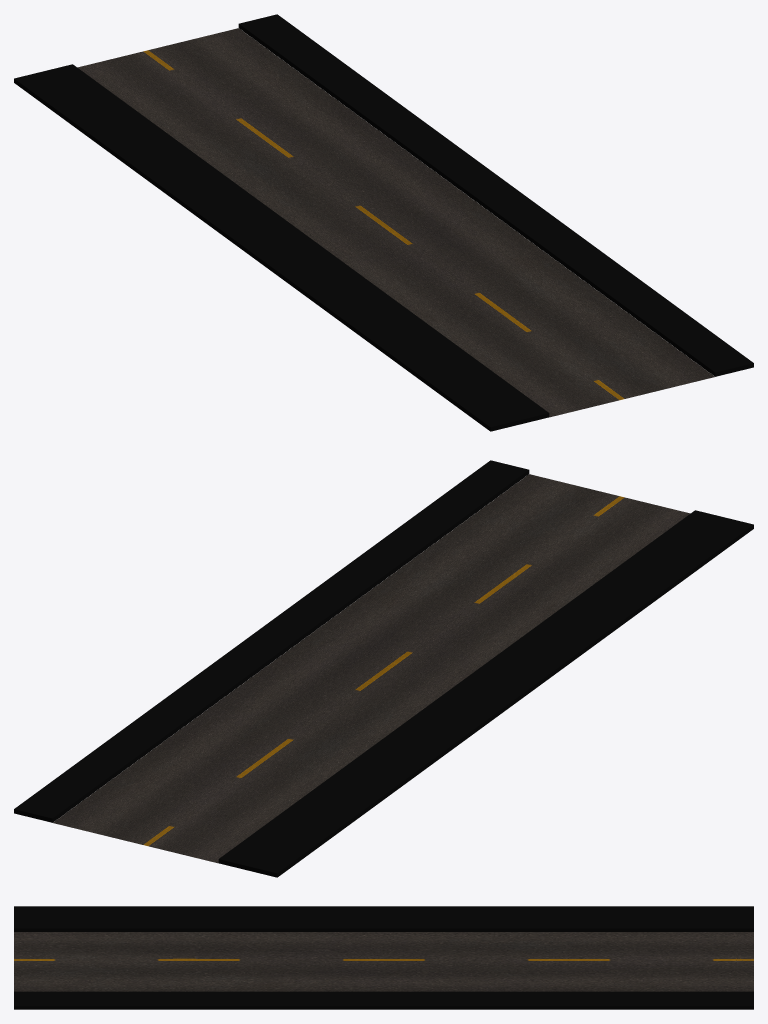
Rendered from road1.glb.
The picture shows the model from 3 angles, top to bottom: view 1: azimuth 30°, elevation 25°; view 2: azimuth 150°, elevation 25°; view 3: azimuth 270°, elevation 25°; orthographic projection. The views are drawn at different scales.
Parts seen in each view (by area): view 1: Plane.002, Plane.001; view 2: Plane.002, Plane.001; view 3: Plane.002, Plane.001.
Part boxes in pixels (x1=…): Plane.002: x1=77, y1=28, x2=714, y2=417; Plane.001: x1=14, y1=14, x2=753, y2=431; Plane.002: x1=53, y1=474, x2=690, y2=863; Plane.001: x1=14, y1=460, x2=753, y2=877; Plane.002: x1=14, y1=932, x2=753, y2=991; Plane.001: x1=14, y1=906, x2=753, y2=1009.
Bounding box in the file's own units: 32.4 × 0.5168 × 102.
Materials: 2 (2 with a texture image).
